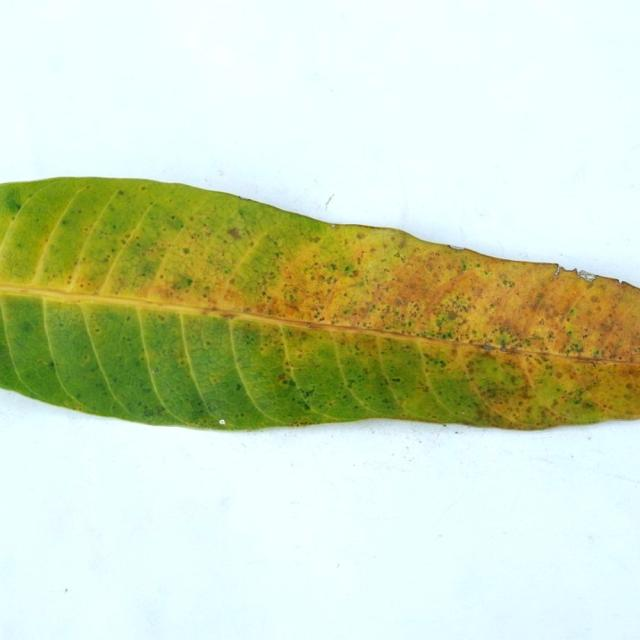Mango: (0, 178, 639, 429)
Powdery_Mildew: (288, 318, 351, 334), (335, 313, 383, 333), (433, 308, 464, 331), (275, 298, 305, 319), (492, 328, 519, 348), (596, 315, 620, 336), (224, 222, 244, 244), (418, 327, 451, 340), (172, 274, 194, 291), (405, 301, 423, 320), (137, 261, 157, 278), (5, 197, 22, 214), (395, 235, 410, 252), (577, 270, 597, 282), (318, 273, 334, 285), (19, 320, 33, 333), (484, 387, 498, 400), (567, 342, 582, 354), (621, 280, 636, 292), (298, 397, 311, 410), (293, 417, 314, 425), (430, 358, 445, 368), (533, 293, 545, 305), (342, 264, 355, 275), (501, 278, 514, 288), (480, 343, 496, 351), (448, 244, 466, 251), (553, 264, 562, 278), (446, 310, 458, 320), (302, 388, 314, 398), (220, 312, 237, 319), (277, 372, 288, 382), (584, 400, 596, 409), (237, 195, 251, 201), (356, 232, 366, 240), (546, 330, 554, 339), (460, 260, 467, 270), (393, 251, 402, 258), (396, 299, 405, 306), (78, 282, 87, 289), (38, 359, 48, 365), (117, 189, 125, 196), (182, 247, 190, 254), (591, 296, 599, 303), (593, 349, 601, 356), (347, 380, 355, 387), (568, 308, 576, 315), (242, 306, 251, 312), (635, 345, 640, 355), (582, 328, 589, 335), (566, 329, 573, 336), (391, 377, 400, 382), (158, 406, 165, 412), (61, 219, 68, 225), (48, 361, 54, 367), (120, 238, 126, 244), (236, 383, 241, 390), (152, 368, 158, 373), (67, 275, 72, 281), (141, 186, 147, 191), (126, 315, 131, 320), (206, 341, 211, 346), (103, 257, 108, 262), (318, 317, 324, 321), (94, 328, 100, 332), (76, 407, 82, 411), (330, 224, 335, 228), (442, 424, 447, 427)
